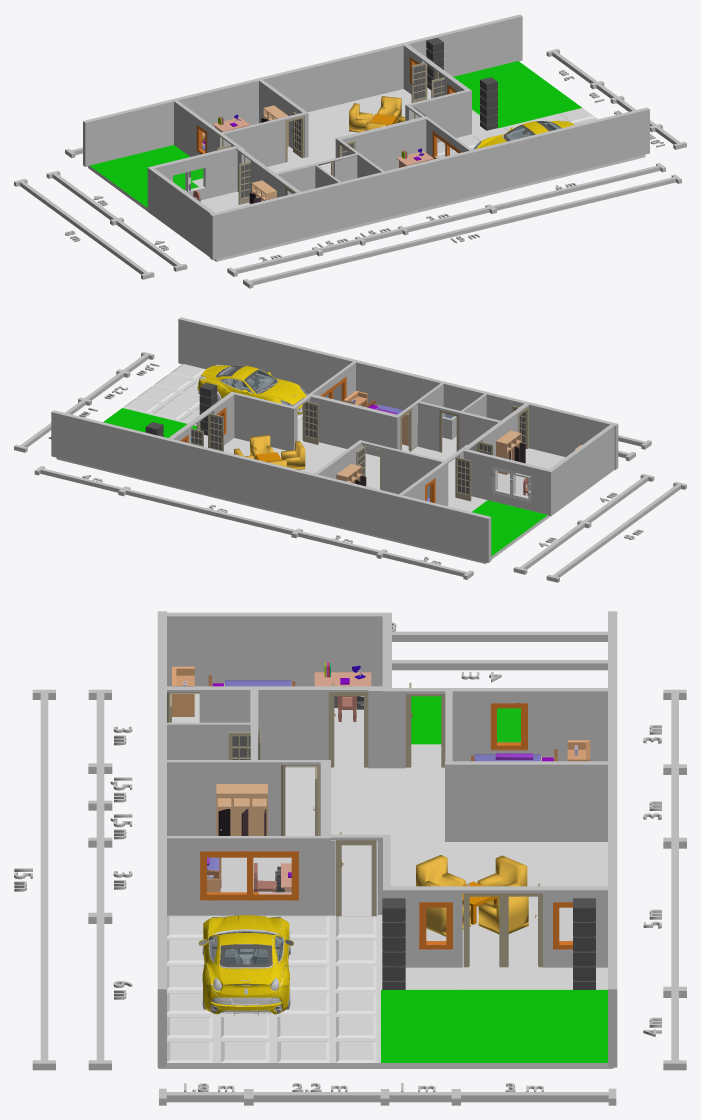
File: percobaan t70 118 rumah baru baru.fbx
The picture shows the model from 3 angles, top to bottom: view 1: azimuth 30°, elevation 25°; view 2: azimuth 150°, elevation 25°; view 3: azimuth 270°, elevation 25°; orthographic projection. The views are drawn at different scales.
Parts seen in each view (by area): view 1: dinding 2, dinding 1, halaman, Cube.003, Cube.006, Cube.023, Cube.012, Cube.001, Cube.000, Cube.002, body, Cube.004 (+3 smaller); view 2: dinding 1, dinding 2, halaman, Cube.003, Cube.007, body, Cube.012, Cube.001, Cube.000, Cube.002, Door.005, Door.002 (+4 smaller); view 3: halaman, dinding 1, dinding 2, Cube.003, body, Cube.002, Cube.012, Cube.006, Cube.007, Cube.023, Cube.001, Cube.000 (+11 smaller).
Boxes of the visible parts, x1=… form: dinding 2: x1=210, y1=107, x2=649, y2=259; dinding 1: x1=83, y1=14, x2=522, y2=191; halaman: x1=88, y1=61, x2=645, y2=261; Cube.003: x1=147, y1=146, x2=237, y2=256; Cube.006: x1=227, y1=163, x2=665, y2=276; Cube.023: x1=243, y1=174, x2=681, y2=288; Cube.012: x1=349, y1=96, x2=405, y2=132; Cube.001: x1=46, y1=171, x2=187, y2=271; Cube.000: x1=14, y1=178, x2=154, y2=279; Cube.002: x1=546, y1=49, x2=686, y2=149; body: x1=473, y1=120, x2=574, y2=149; Cube.004: x1=480, y1=77, x2=497, y2=130; dinding 1: x1=51, y1=391, x2=491, y2=562; dinding 2: x1=178, y1=317, x2=618, y2=469; halaman: x1=56, y1=363, x2=565, y2=563; Cube.003: x1=463, y1=424, x2=614, y2=516; Cube.007: x1=34, y1=466, x2=473, y2=579; body: x1=197, y1=364, x2=307, y2=415; Cube.012: x1=234, y1=435, x2=305, y2=469; Cube.001: x1=513, y1=473, x2=654, y2=574; Cube.000: x1=546, y1=481, x2=686, y2=582; Cube.002: x1=14, y1=351, x2=154, y2=452; Door.005: x1=456, y1=457, x2=471, y2=501; Door.002: x1=303, y1=401, x2=318, y2=444; halaman: x1=158, y1=694, x2=613, y2=1068; dinding 1: x1=331, y1=611, x2=617, y2=1067; dinding 2: x1=157, y1=611, x2=383, y2=1067; Cube.003: x1=167, y1=612, x2=391, y2=687; body: x1=198, y1=915, x2=293, y2=1015; Cube.002: x1=159, y1=1088, x2=616, y2=1105; Cube.012: x1=416, y1=855, x2=528, y2=936; Cube.006: x1=88, y1=689, x2=112, y2=1070; Cube.007: x1=663, y1=689, x2=686, y2=1070; Cube.023: x1=32, y1=689, x2=55, y2=1070; Cube.001: x1=392, y1=660, x2=607, y2=670; Cube.000: x1=392, y1=631, x2=607, y2=641.
Bounding box in the file's own units: 10.97 × 0.9421 × 6.49.
